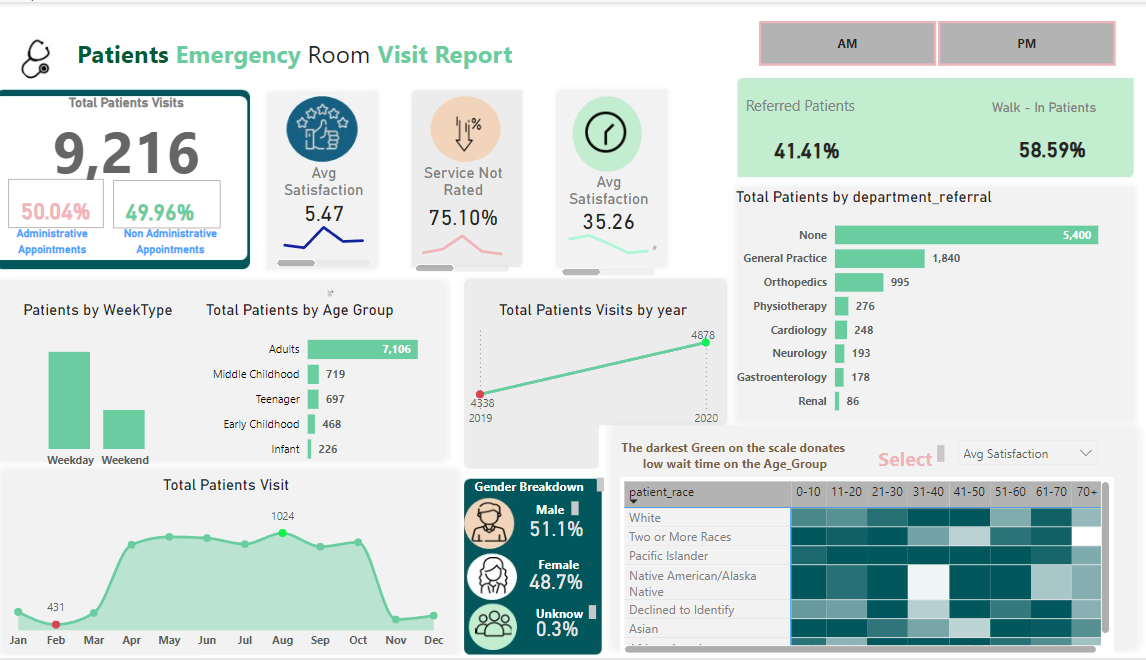

What the dashboard file says about the page in this screenshot:
{"tool":"powerbi","page":{"name":"Page 1","canvas":[1280,720],"ordinal":0},"visuals":[{"type":"cardVisual","fields":{"Data":["Dax Calculations.% Adminiastrative Schedule"]},"box":[9.9,188.7,115.5,64.8],"z":0},{"type":"cardVisual","fields":{"Data":["Dax Calculations.% Non -Adminiastrative Schedule"]},"box":[125.4,190.1,128.2,63.4],"z":1000},{"type":"pivotTable","fields":{"Values":["Dax Calculations.Average Satisfaction Score"],"Rows":["Patients Dataset.patient_race"],"Columns":["Patients Dataset.Age Bucket"]},"box":[685.9,521.1,542.3,198.6],"z":2000},{"type":"slicer","fields":{"Values":["Parameter.Parameter"]},"box":[1047,470.7,172.9,50.8],"z":3000},{"type":"clusteredBarChart","fields":{"Category":["Patients Dataset.Age Group"],"Y":["Dax Calculations.Total Patients"]},"box":[226,328,277,190.2],"z":4000},{"type":"areaChart","title":"Total Patients Visit","fields":{"Category":["Date.Month"],"Y":["Dax Calculations.Total Patients","Dax Calculations.Values Max point (Month)"]},"box":[4.3,520.7,499.2,198.8],"z":5000},{"type":"card","title":"Total Patients Visits","fields":{"Values":["Dax Calculations.Total Patients"]},"box":[9.9,101.4,269,101.4],"z":7000},{"type":"lineChart","title":"Total Patients Visits by year","fields":{"Category":["Date.Year"],"Y":["Dax Calculations.Total Patients","Dax Calculations.Values Max point year"]},"box":[514,328,283.9,147.5],"z":8000},{"type":"clusteredBarChart","fields":{"Category":["Patients Dataset.department_referral"],"Y":["Dax Calculations.Total Patients"]},"box":[807.6,203,446.2,261.3],"z":9000},{"type":"card","fields":{"Values":["Dax Calculations.%  Referred Patients"]},"box":[822.9,136.2,136.2,54.2],"z":10000},{"type":"card","fields":{"Values":["Dax Calculations.%  UN_Referred Patients"]},"box":[1084.3,134.8,152.9,54.2],"z":11000},{"type":"card","fields":{"Values":["Dax Calculations.HeatMap Calculations"]},"box":[664.2,465.2,296.4,65.9],"z":12000},{"type":"textbox","box":[0,239.4,125.4,49.3],"z":13000},{"type":"textbox","box":[125.4,239.4,135.2,49.3],"z":14000},{"type":"card","title":"Avg Satisfaction","fields":{"Values":["Dax Calculations.Average Satisfaction Score"]},"box":[304.4,176.5,112.6,69.5],"z":15000},{"type":"card","title":"Service Not Rated","fields":{"Values":["Dax Calculations.% No Rating"]},"box":[456,176.5,116.8,77.8],"z":16000},{"type":"card","title":"Avg Satisfaction","fields":{"Values":["Dax Calculations.Average Wait Time"]},"box":[617.2,186.3,112.6,68.1],"z":17000},{"type":"textbox","box":[808.2,97.3,151.6,50.1],"z":18000},{"type":"textbox","box":[1084.3,101.5,134.8,50],"z":19000},{"type":"clusteredColumnChart","title":"Patients by WeekType","fields":{"Y":["Dax Calculations.Total Patients"],"Category":["Date.WeekType"]},"box":[0,328,226,192.9],"z":20000},{"type":"card","fields":{"Values":["Dax Calculations.% Male Visit"]},"box":[574.3,552.1,84.6,51.3],"z":21000},{"type":"card","fields":{"Values":["Dax Calculations.% Female Visit"]},"box":[574.3,603.4,84.6,63.8],"z":22000},{"type":"card","fields":{"Values":["Dax Calculations.% Unknown"]},"box":[575.6,663,84.6,49.9],"z":23000},{"type":"lineChart","fields":{"Y":["Dax Calculations.Average Satisfaction Score"],"Category":["Date.Month"]},"box":[304.4,230.8,112.6,65.3],"z":24000},{"type":"lineChart","fields":{"Y":["Dax Calculations.% No Rating"],"Category":["Date.Month"]},"box":[457.3,239.1,112.6,62.6],"z":25000},{"type":"lineChart","fields":{"Y":["Dax Calculations.Average Wait Time"],"Category":["Date.Month"]},"box":[617.2,239.1,112.6,66.7],"z":26000},{"type":"textbox","box":[521.5,517.4,152.6,26.4],"z":27000},{"type":"textbox","box":[588.1,543.7,56.9,26.4],"z":28000},{"type":"textbox","box":[590.9,603.4,68,31.9],"z":29000},{"type":"textbox","box":[588.1,657.5,76.3,30.5],"z":30000},{"type":"textbox","box":[964.7,481.6,82.3,32.9],"z":31000},{"type":"textbox","box":[85.1,32.9,503.6,53.5],"z":32000},{"type":"slicer","fields":{"Values":["Patients Dataset.Moment"]},"box":[812.4,13.7,441.9,63.1],"z":32001}]}

Visuals, with their boxes in screenshot pixels (x1, y1, x2, y2), scaled from the page's 1280x720 canvas onto the 1146x660 screenshot:
cardVisual - Dax Calculations.% Adminiastrative Schedule: BBox(9, 173, 112, 232)
cardVisual - Dax Calculations.% Non -Adminiastrative Schedule: BBox(112, 174, 227, 232)
pivotTable - Dax Calculations.Average Satisfaction Score x Patients Dataset.patient_race: BBox(614, 478, 1100, 659)
slicer - Parameter.Parameter: BBox(937, 431, 1092, 478)
clusteredBarChart - Patients Dataset.Age Group x Dax Calculations.Total Patients: BBox(202, 301, 450, 475)
"Total Patients Visit" areaChart: BBox(4, 477, 451, 659)
"Total Patients Visits" card: BBox(9, 93, 250, 186)
"Total Patients Visits by year" lineChart: BBox(460, 301, 714, 436)
clusteredBarChart - Patients Dataset.department_referral x Dax Calculations.Total Patients: BBox(723, 186, 1123, 426)
card - Dax Calculations.%  Referred Patients: BBox(737, 125, 859, 175)
card - Dax Calculations.%  UN_Referred Patients: BBox(971, 124, 1108, 173)
card - Dax Calculations.HeatMap Calculations: BBox(595, 426, 860, 487)
textbox: BBox(0, 219, 112, 265)
textbox: BBox(112, 219, 233, 265)
"Avg Satisfaction" card: BBox(273, 162, 373, 226)
"Service Not Rated" card: BBox(408, 162, 513, 233)
"Avg Satisfaction" card: BBox(553, 171, 653, 233)
textbox: BBox(724, 89, 859, 135)
textbox: BBox(971, 93, 1091, 139)
"Patients by WeekType" clusteredColumnChart: BBox(0, 301, 202, 477)
card - Dax Calculations.% Male Visit: BBox(514, 506, 590, 553)
card - Dax Calculations.% Female Visit: BBox(514, 553, 590, 612)
card - Dax Calculations.% Unknown: BBox(515, 608, 591, 653)
lineChart - Dax Calculations.Average Satisfaction Score x Date.Month: BBox(273, 212, 373, 271)
lineChart - Dax Calculations.% No Rating x Date.Month: BBox(409, 219, 510, 277)
lineChart - Dax Calculations.Average Wait Time x Date.Month: BBox(553, 219, 653, 280)
textbox: BBox(467, 474, 604, 498)
textbox: BBox(527, 498, 577, 523)
textbox: BBox(529, 553, 590, 582)
textbox: BBox(527, 603, 595, 631)
textbox: BBox(864, 441, 937, 472)
textbox: BBox(76, 30, 527, 79)
slicer - Patients Dataset.Moment: BBox(727, 13, 1123, 70)
